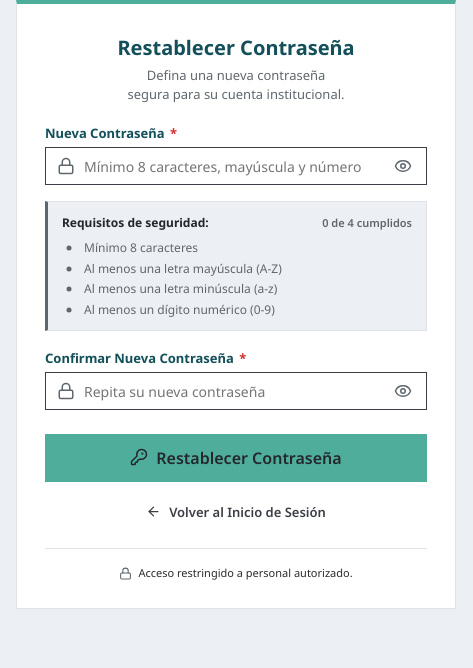
Test case: RestablecerContrasenaForm (HU-65) › Cuando se provee token en la URL › debe validar que la nueva contraseña sea obligatoria
Click the button "Restablecer Contraseña".
click(236, 458)  # box [45, 434, 427, 482]
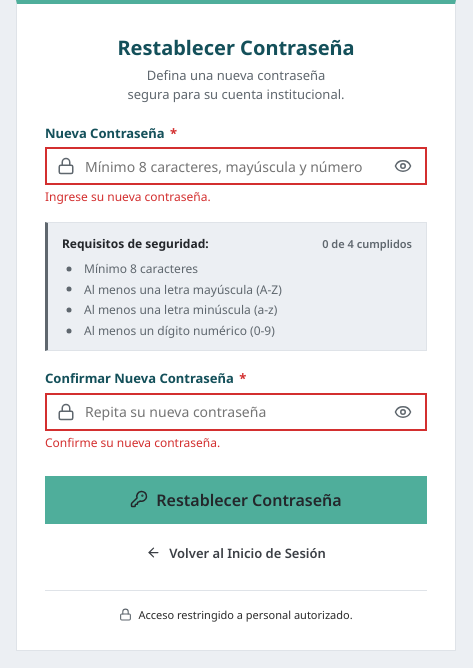
Check: the text "Ingrese su nueva contraseña." is shown, box [45, 188, 211, 205]
